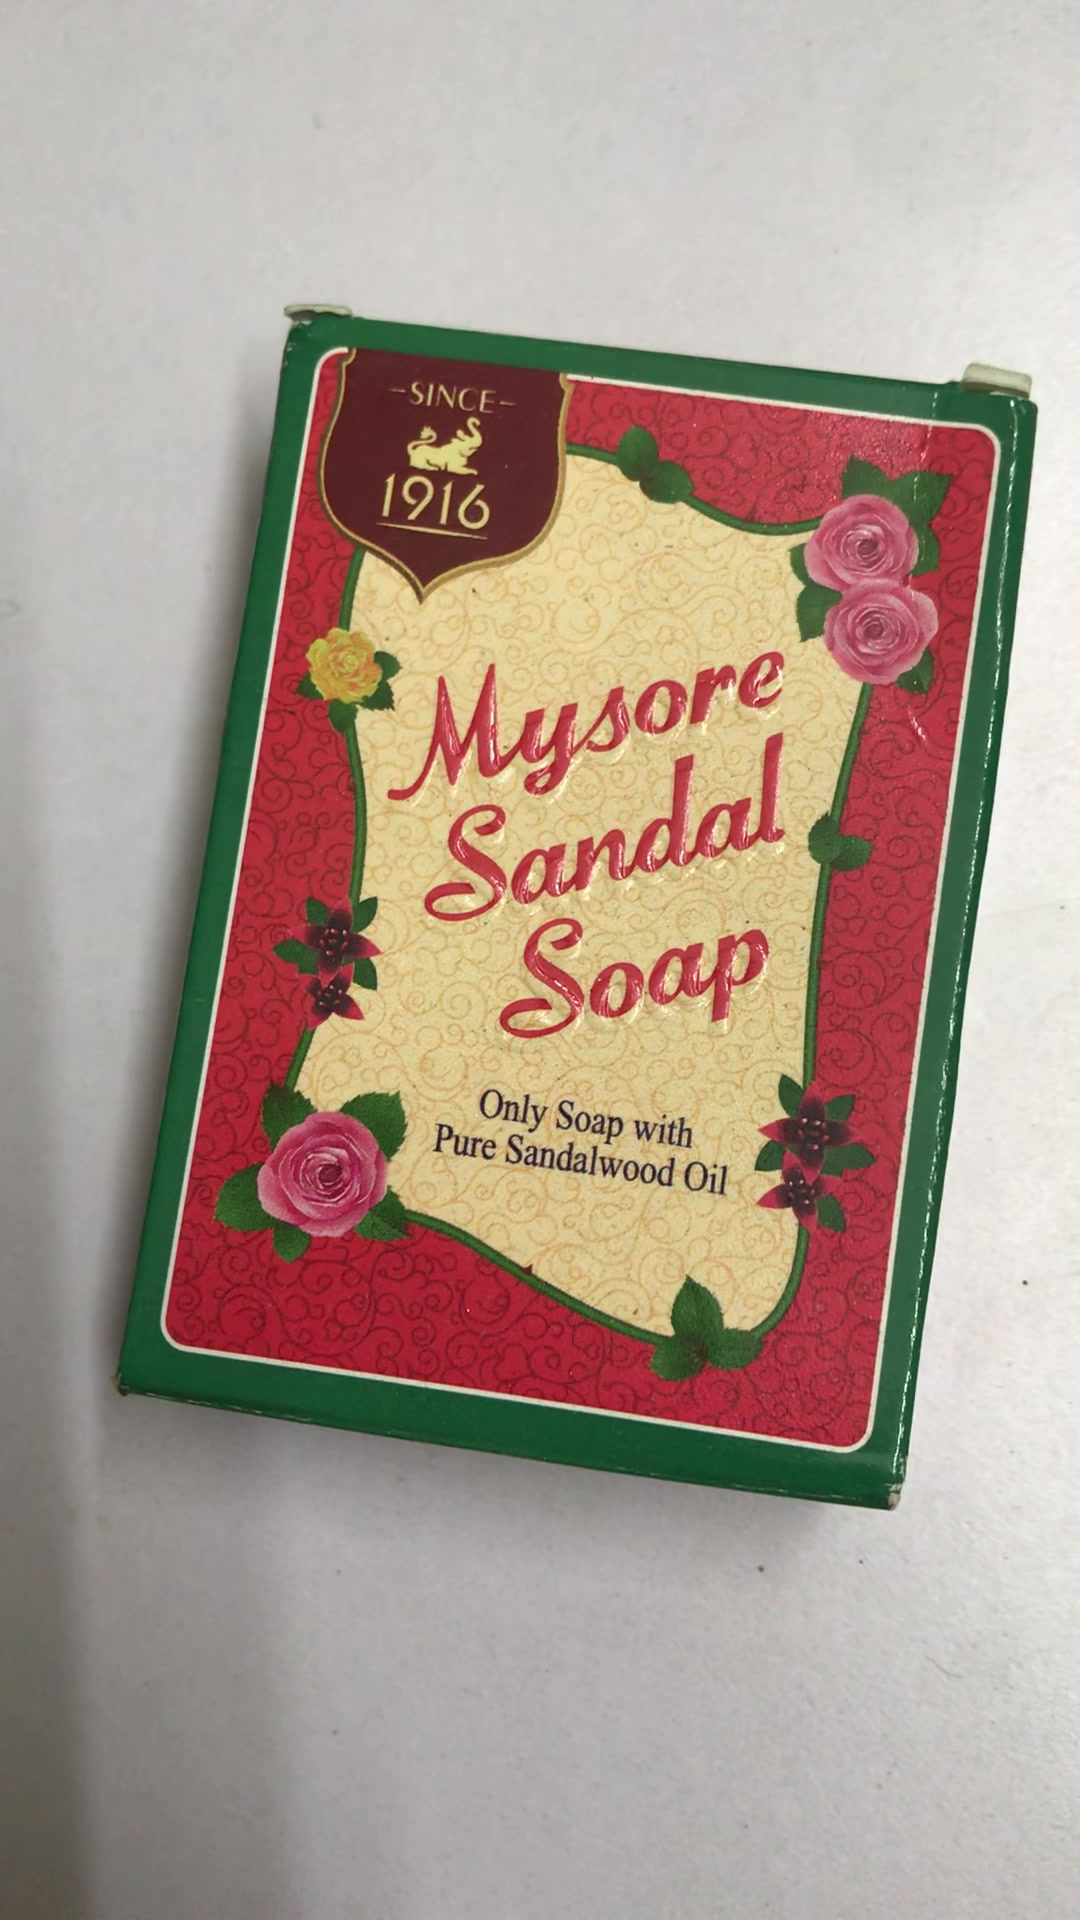mysore sandal soap: (109, 315, 1026, 1509)
